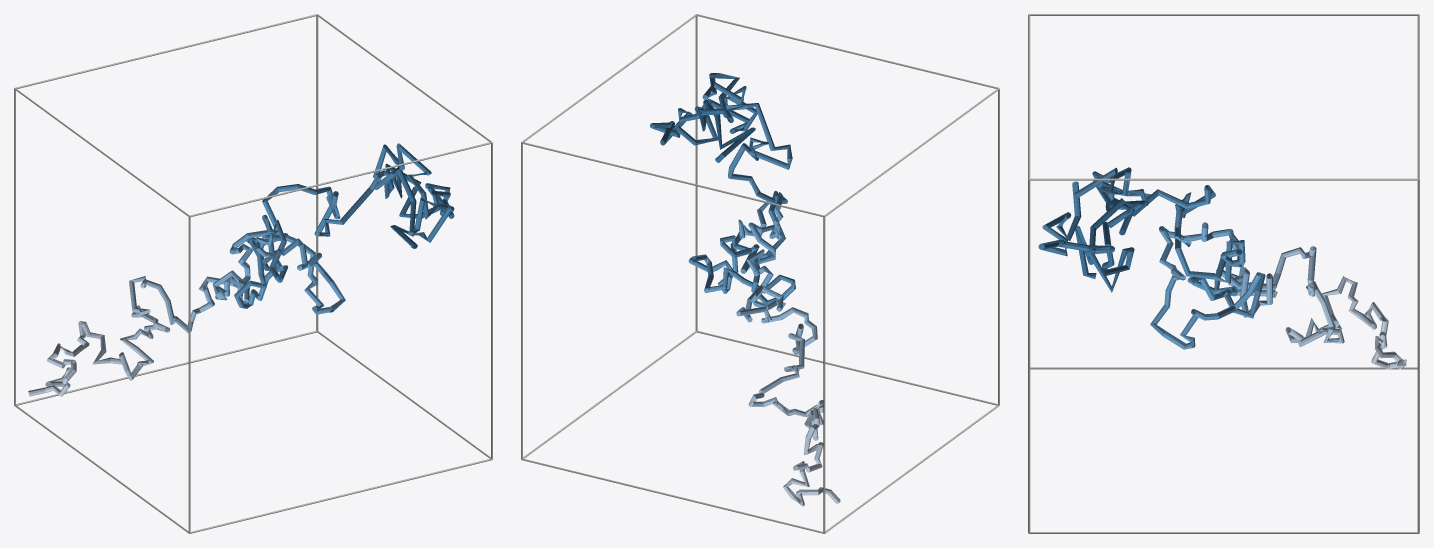
3 views of the same model, side by side, from view 1: azimuth 30°, elevation 25°; view 2: azimuth 150°, elevation 25°; view 3: azimuth 270°, elevation 25° (orthographic). The views are drawn at different scales.
Parts seen in each view (by area): view 1: geometry_0, geometry_1; view 2: geometry_0, geometry_1; view 3: geometry_0, geometry_1.
Part boxes in pixels (box(x1,y1,x2,y2)): geometry_0: box(28, 143, 454, 396); geometry_1: box(14, 14, 492, 533); geometry_0: box(650, 73, 840, 506); geometry_1: box(521, 14, 999, 533); geometry_0: box(1038, 167, 1406, 369); geometry_1: box(1028, 14, 1419, 533).
Bounding box in the file's own units: 0.3037 × 0.3014 × 0.3016.
